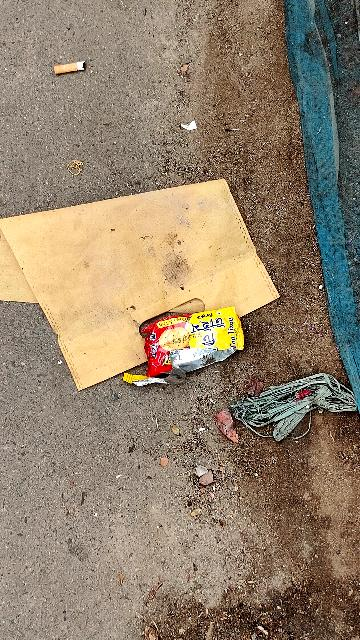packet: (144, 303, 251, 373)
